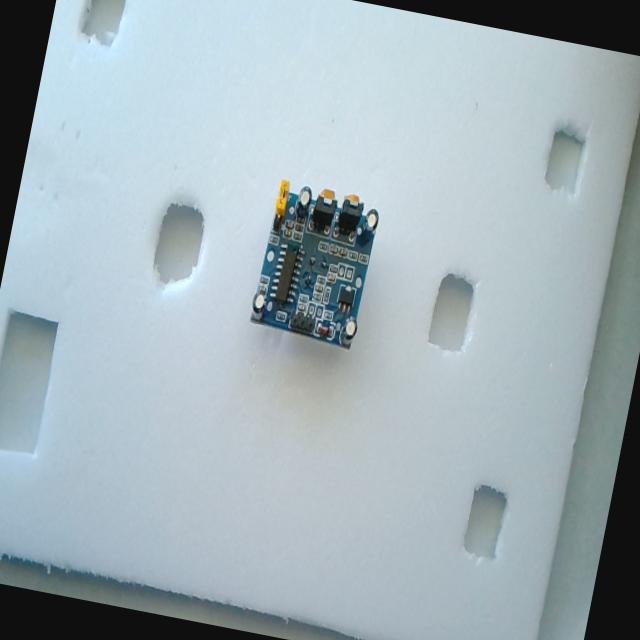Electrolytic capacitor: (242, 280, 272, 322), (334, 307, 362, 348), (359, 203, 384, 245), (295, 184, 314, 226)
IC: (262, 242, 314, 314)
